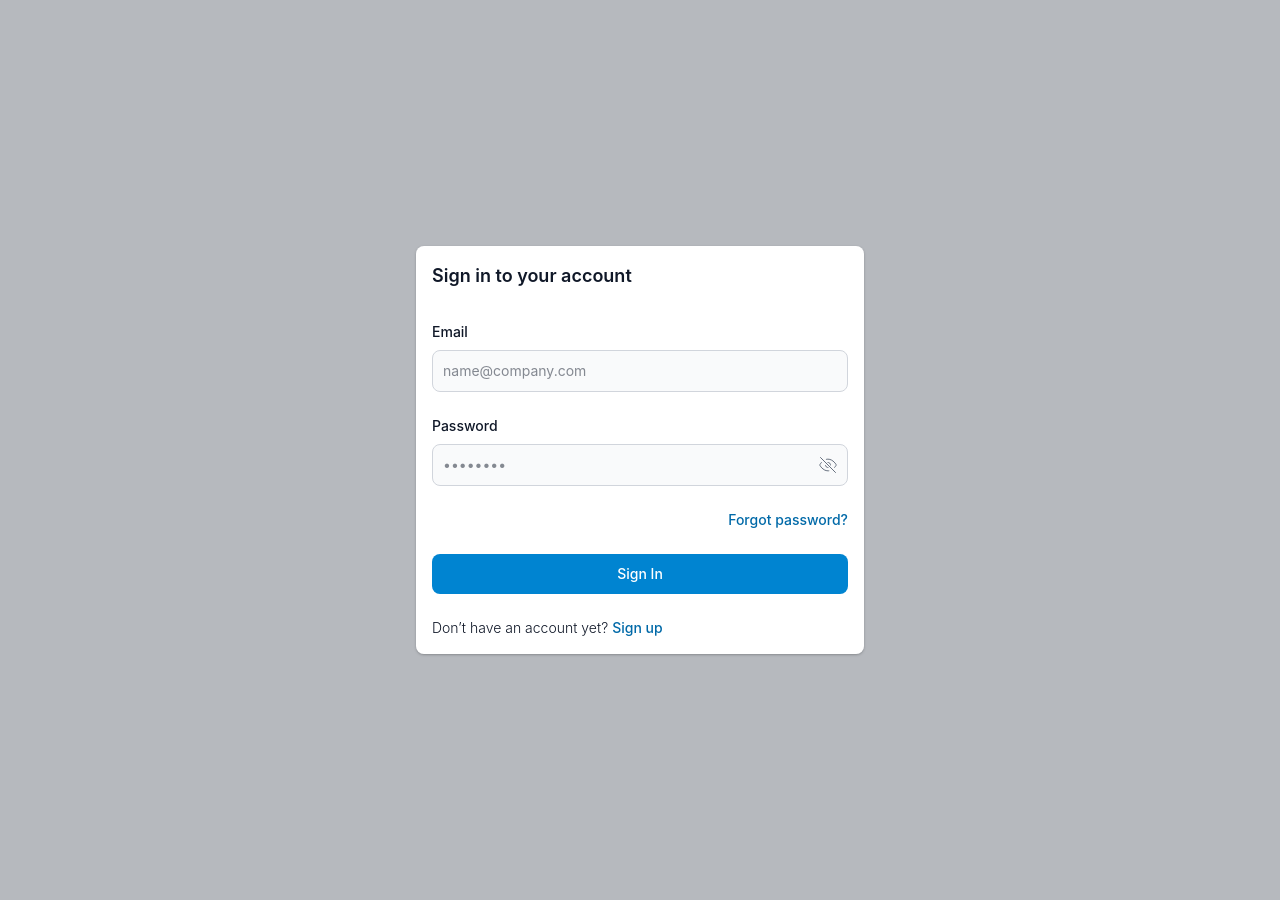
Test: processing submit
Click the button "Sign up" at (637, 628), box [612,618,663,638]
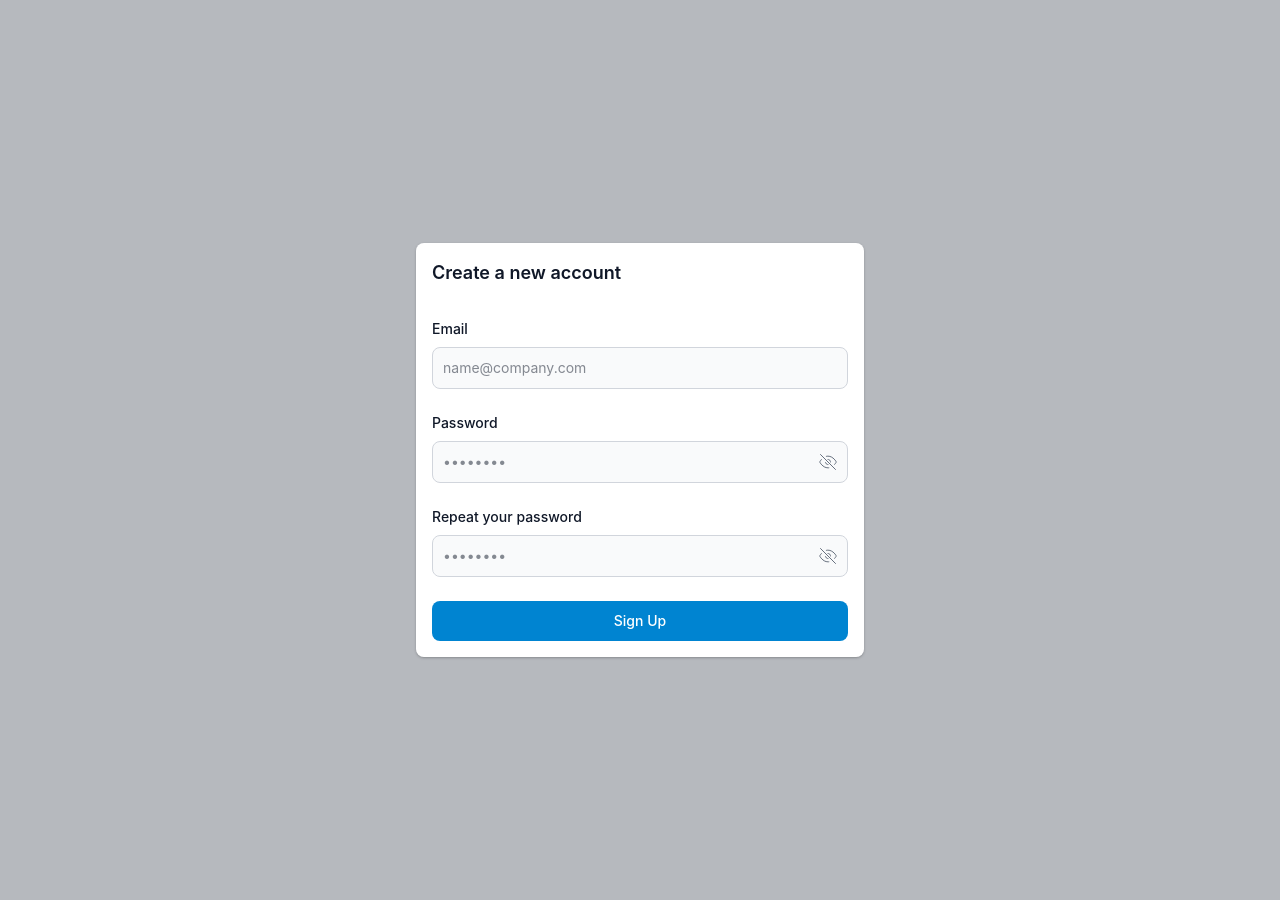
Expected: the form "Email Password Repeat your password Sign Up" is shown, [432,319,848,641]
Type "testemail@mail.com" into the field labelled "Email" at (640, 368), box [432,347,848,389]
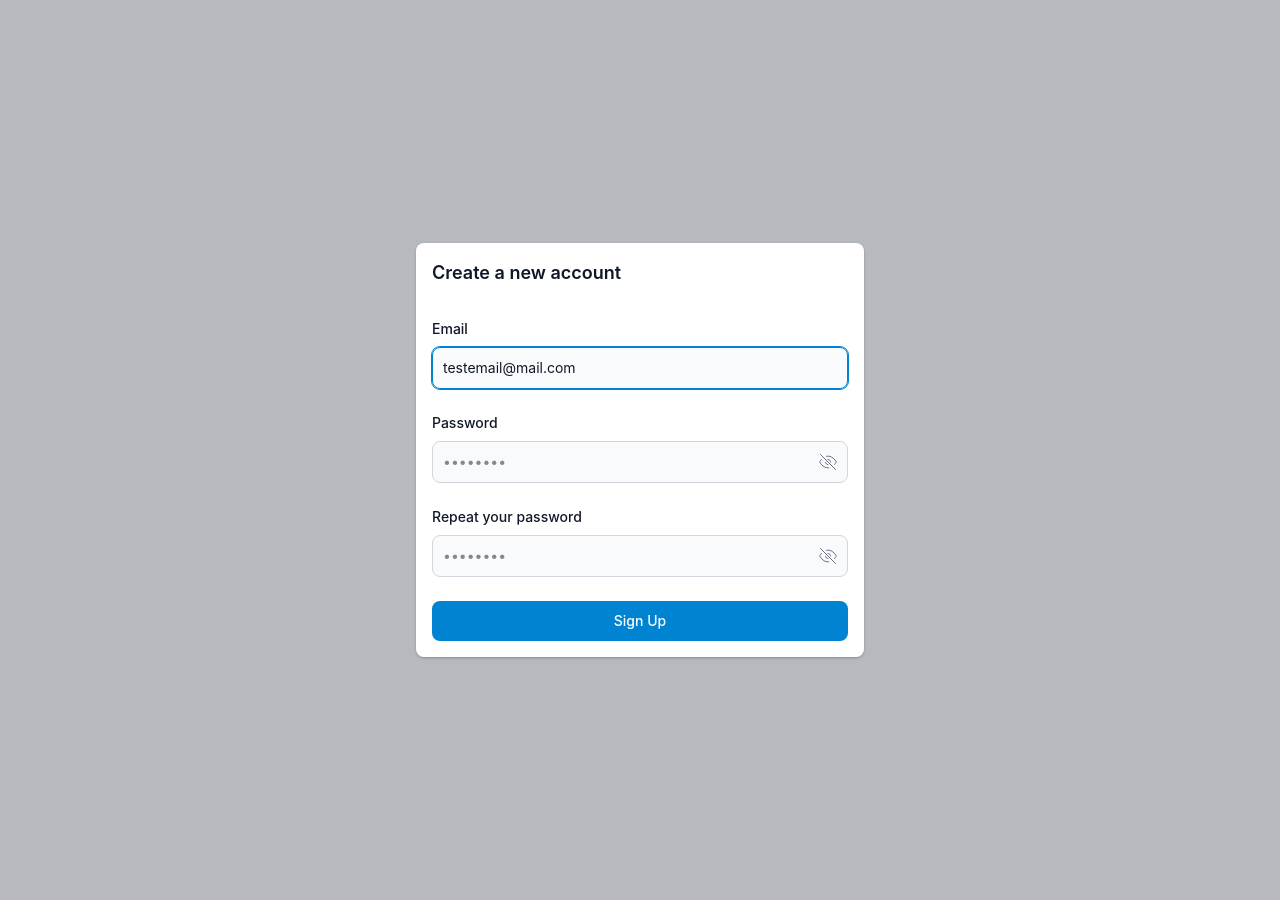
Type "someNicePassw0rd" into the password field labelled "Password" at (640, 462), box [432,441,848,483]
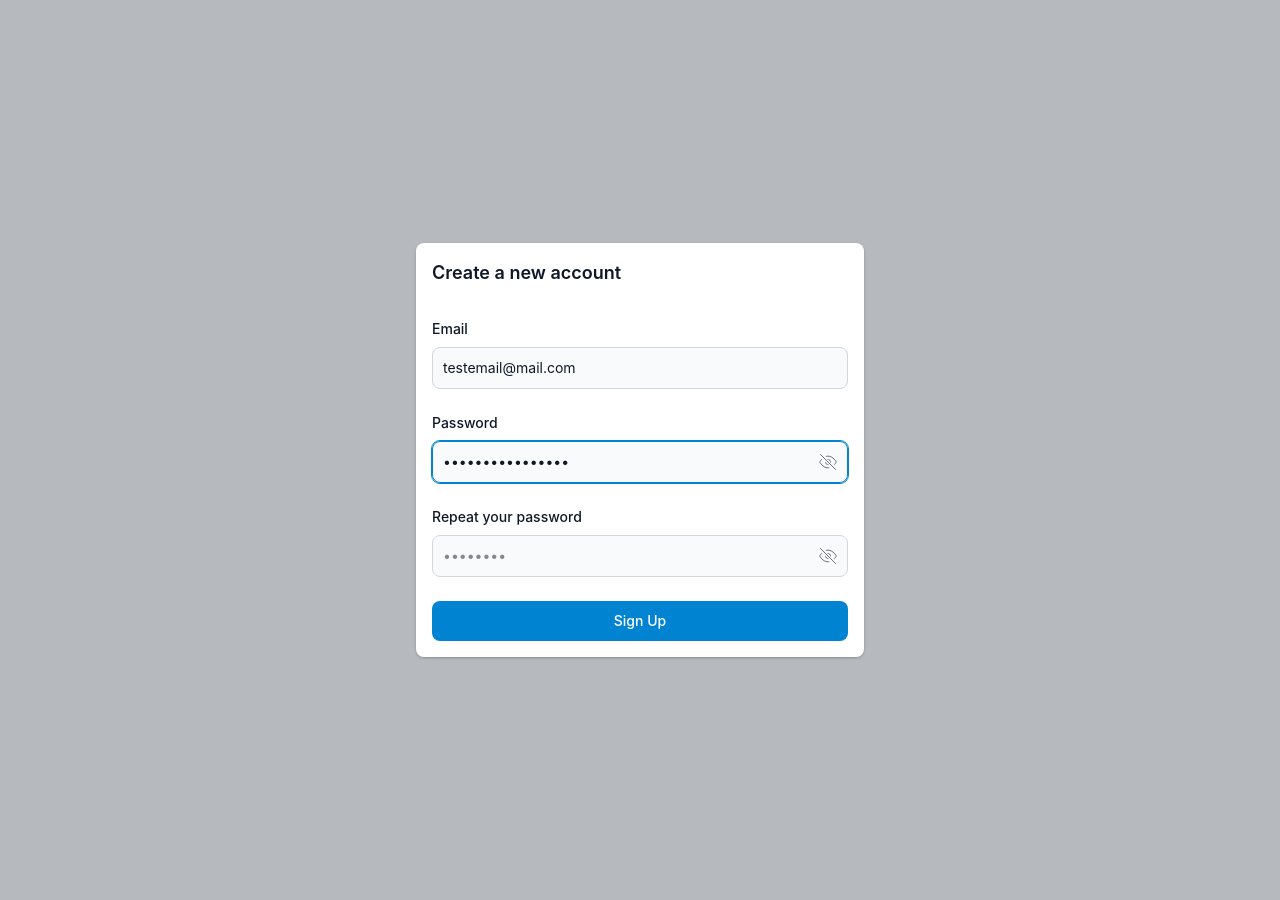
Type "someNicePassw0rd" into the password field labelled "Repeat your password" at (640, 556), box [432,535,848,577]
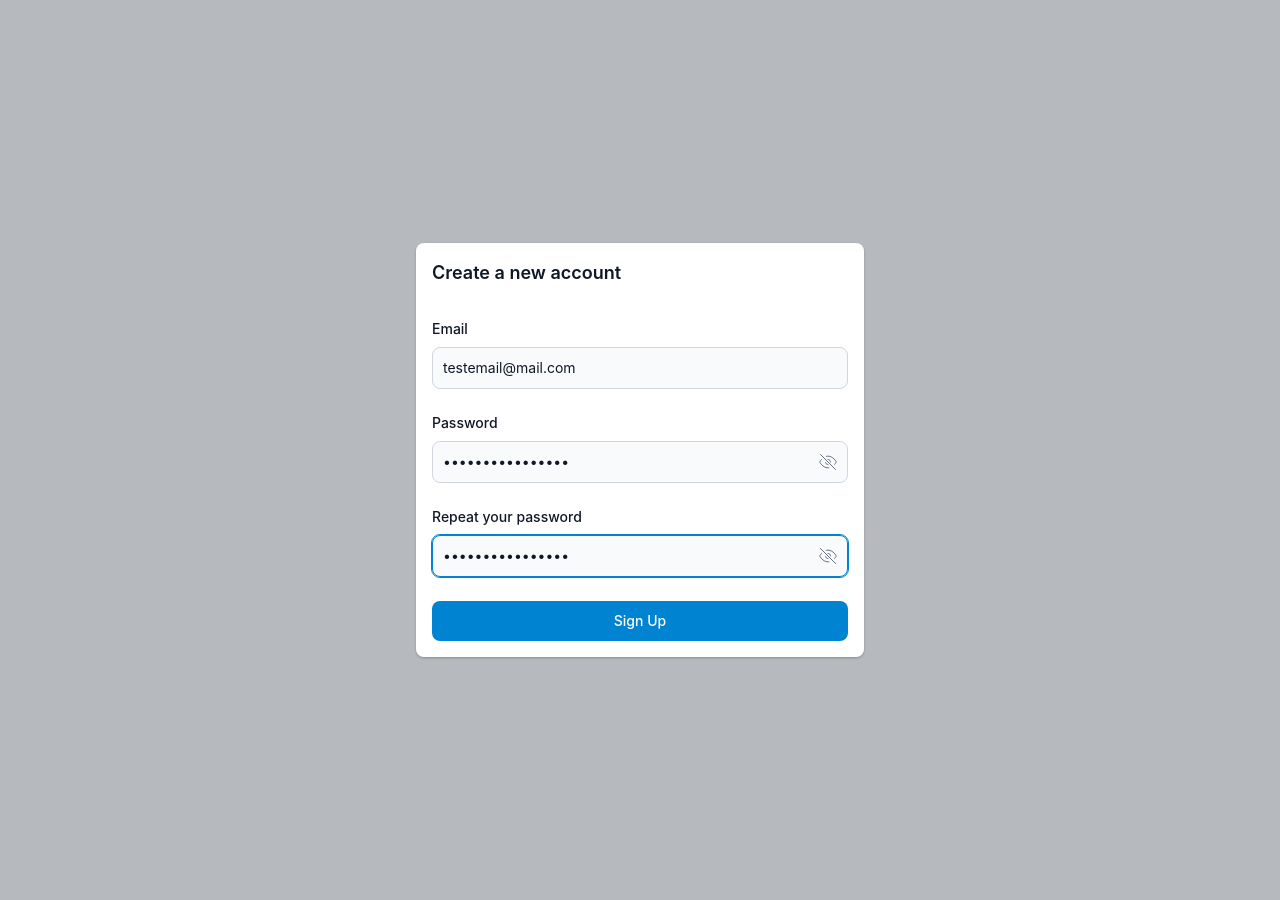
Click the button "Sign Up" at (640, 621), box [432,601,848,641]
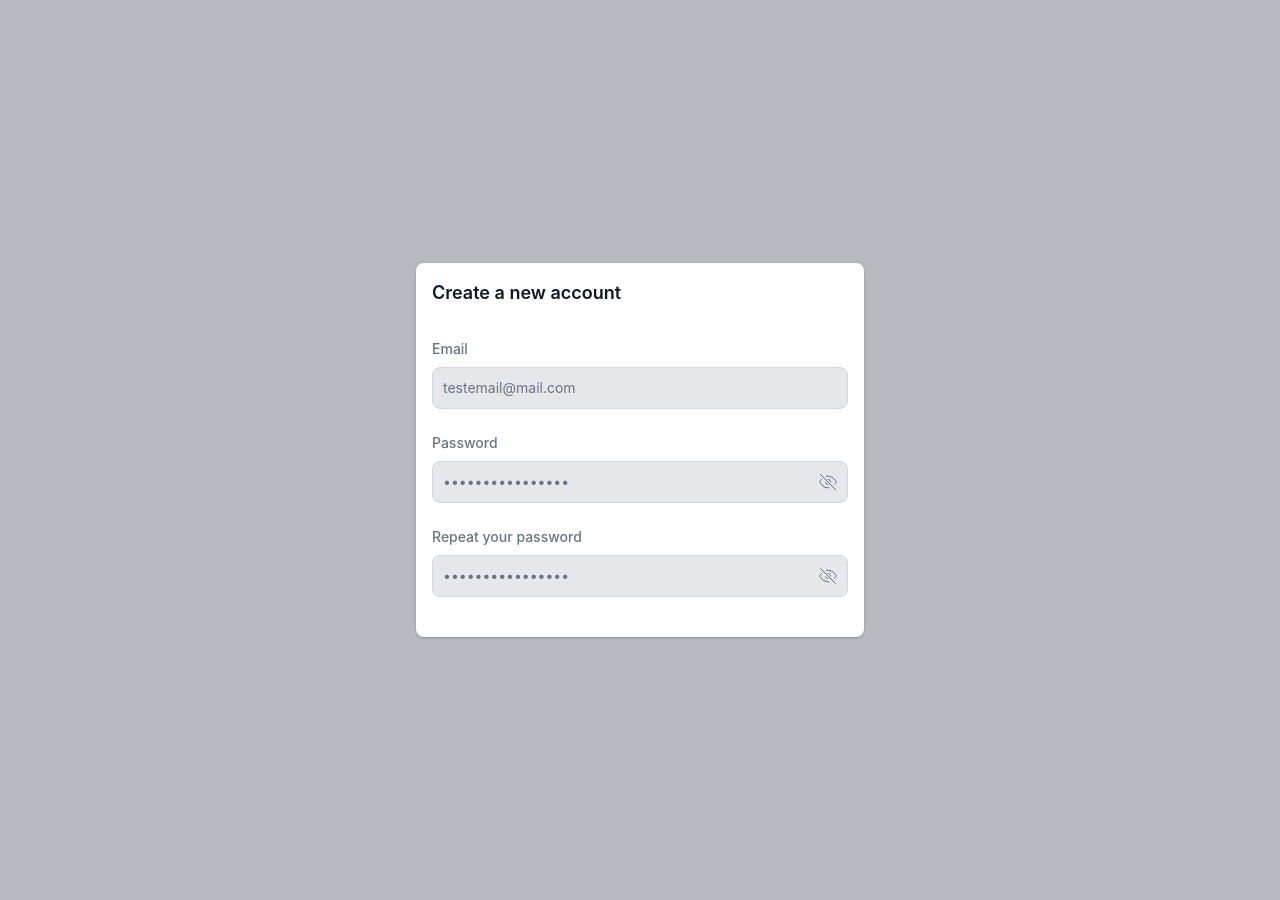
Now the field labelled "Email" is disabled, box [432,367,848,409]
Now the password field labelled "Password" is disabled, box [432,461,848,503]
Now the password field labelled "Repeat your password" is disabled, box [432,555,848,597]
